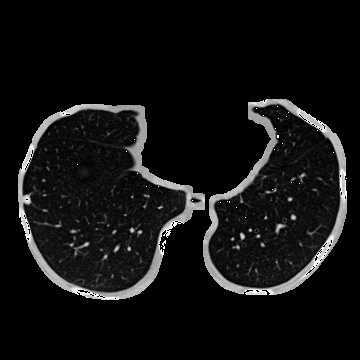PN: (22, 195, 30, 203)
